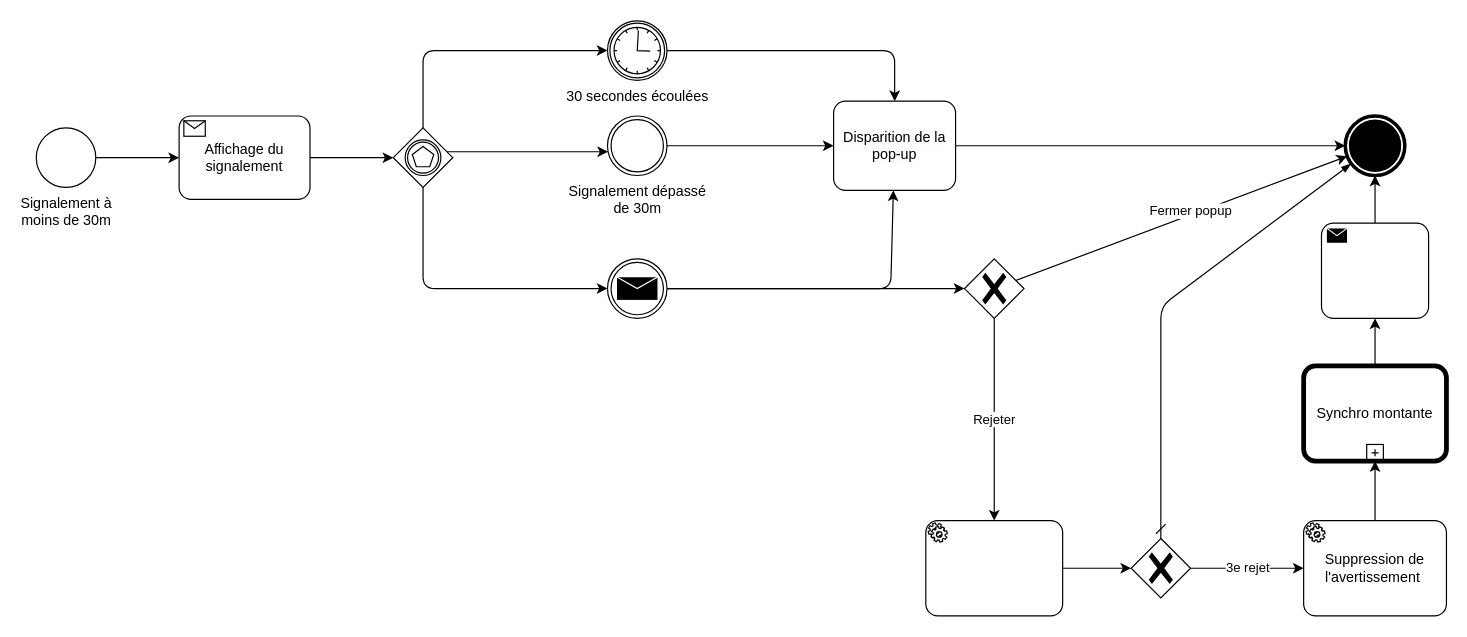
The diagram is 1467 pixels wide and 637 high, and some of its shapes have lost their labels. The box of each missing label's shape, as (x1, y1, x2, y2) in pixels:
Compatabiliser le rejet: (925, 519, 1063, 616)
Informer un modérateur: (1320, 222, 1429, 318)
Utilisateur interragit: (606, 258, 667, 318)
